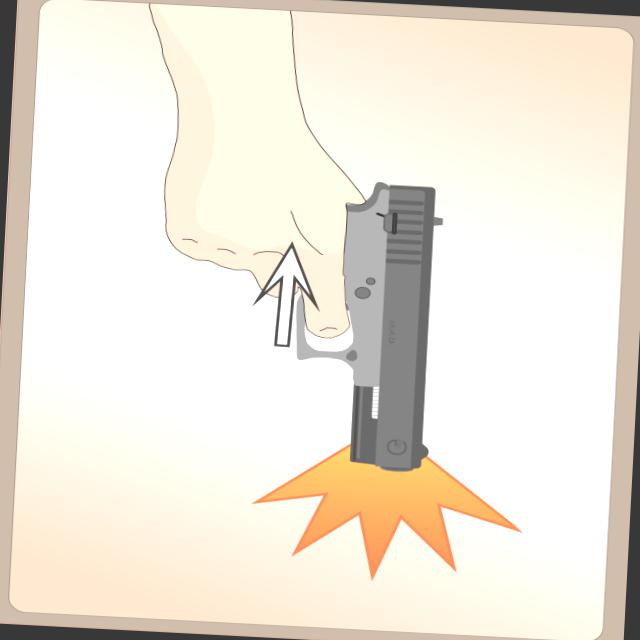handgun: (284, 178, 454, 476)
